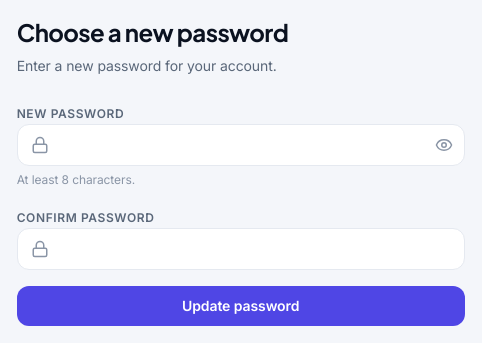
it: ResetPasswordForm › success shows a sign-in link and never signs anyone in
This screenshot has width=482, height=343.
In the password field labelled "New password": (241,145) x1=17 y1=124 x2=465 y2=166, type "Copper-Meadow-42"
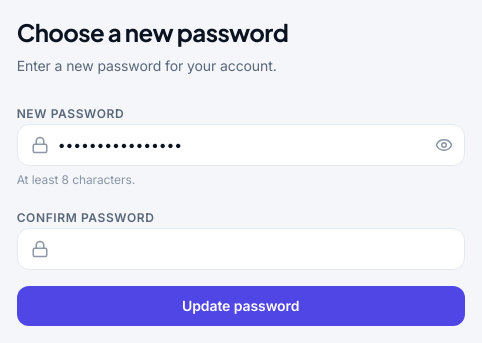
In the password field labelled "Confirm password": (241,249) x1=17 y1=228 x2=465 y2=270, type "Copper-Meadow-42"
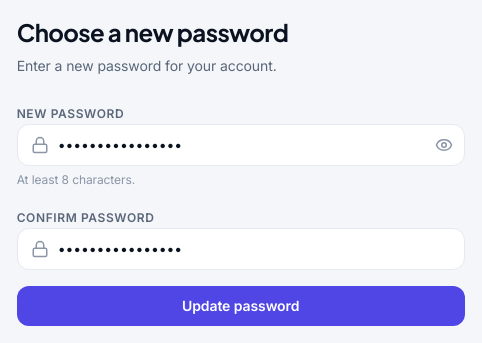
Click the button "Update password": (241,306) x1=17 y1=286 x2=465 y2=326
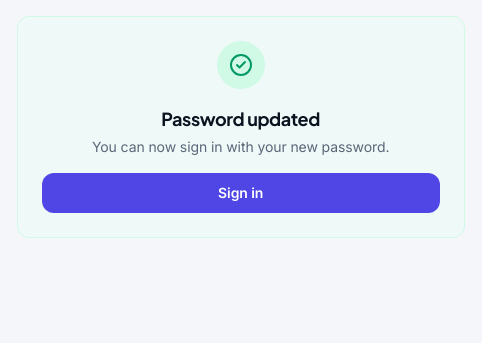
Expected: the heading "Password updated" is shown, x1=161 y1=107 x2=320 y2=130
